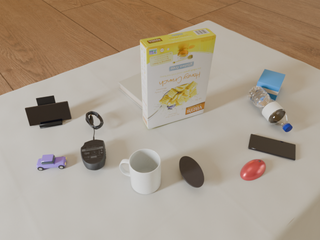book: (118, 73, 143, 109)
bottle: (248, 86, 292, 132)
box: (140, 28, 216, 129), (257, 69, 285, 101)
cup: (120, 149, 161, 194)
mouse: (81, 136, 106, 170), (179, 156, 204, 188), (240, 159, 266, 181)
phone: (248, 134, 296, 160), (25, 101, 71, 126)
toy_car: (36, 154, 67, 171)
